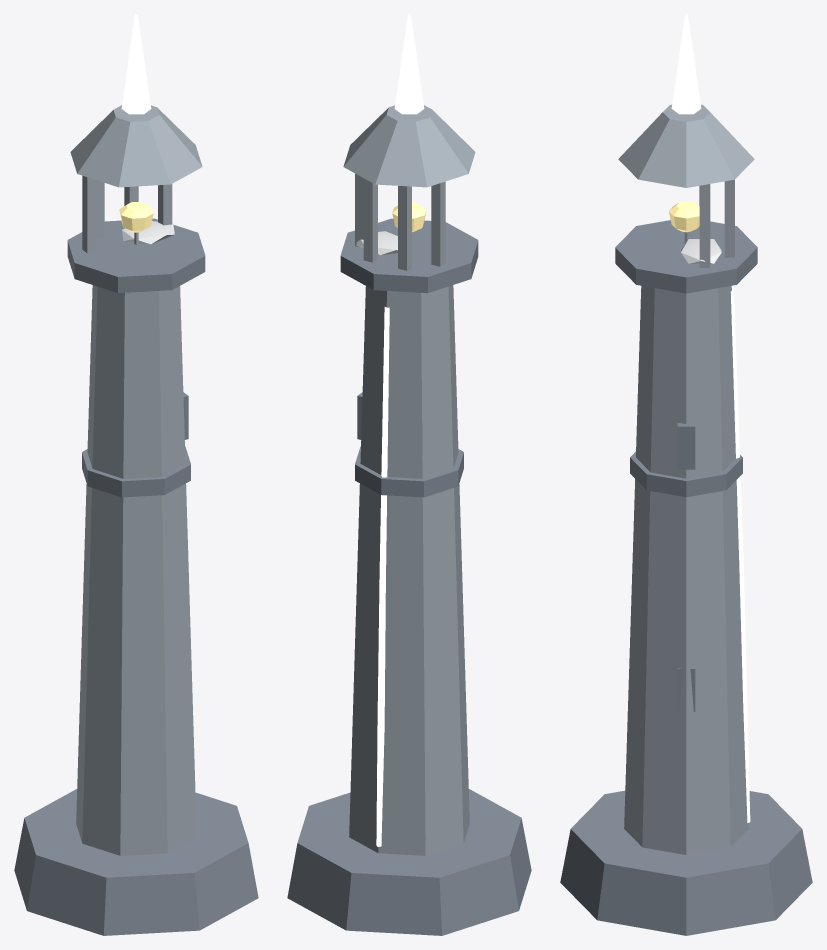
Rendered from cloudloft_weatherspire.glb.
3 views of the same model, side by side, from view 1: azimuth 30°, elevation 25°; view 2: azimuth 150°, elevation 25°; view 3: azimuth 270°, elevation 25° (orthographic).
Parts seen in each view (by area): view 1: cloudloft_weatherspire; view 2: cloudloft_weatherspire; view 3: cloudloft_weatherspire.
Part boxes in pixels (x1=…): cloudloft_weatherspire: x1=14, y1=14, x2=258, y2=935; cloudloft_weatherspire: x1=287, y1=14, x2=531, y2=935; cloudloft_weatherspire: x1=560, y1=14, x2=812, y2=935.
Bounding box in the file's own units: 1.7 × 6.45 × 1.7.
